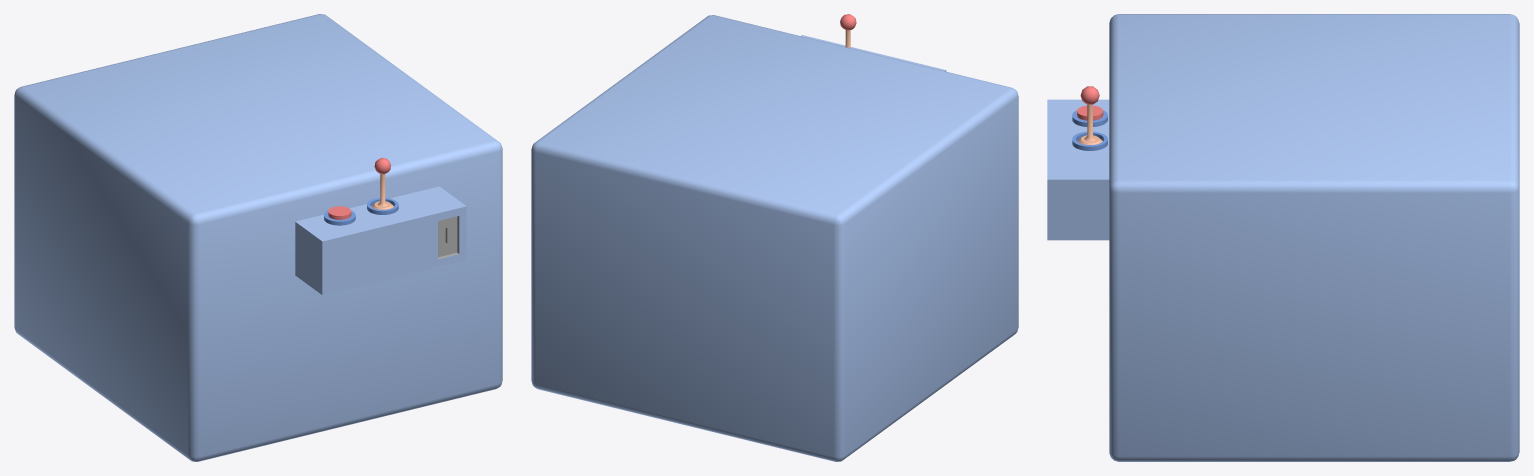
Rendered from claw machine base.fbx.
3 renders of one model, left to right at view 1: azimuth 30°, elevation 25°; view 2: azimuth 150°, elevation 25°; view 3: azimuth 270°, elevation 25°, orthographic. The views are drawn at different scales.
Visible parts, largest first — view 1: Cube.015; view 2: Cube.015; view 3: Cube.015.
Part boxes in pixels (left/top/right/bottom): Cube.015: left=14, top=14, right=502, bottom=461; Cube.015: left=531, top=14, right=1018, bottom=461; Cube.015: left=1047, top=14, right=1519, bottom=461.
Size of the model in its own units: 4.27 by 3.51 by 4.91.
